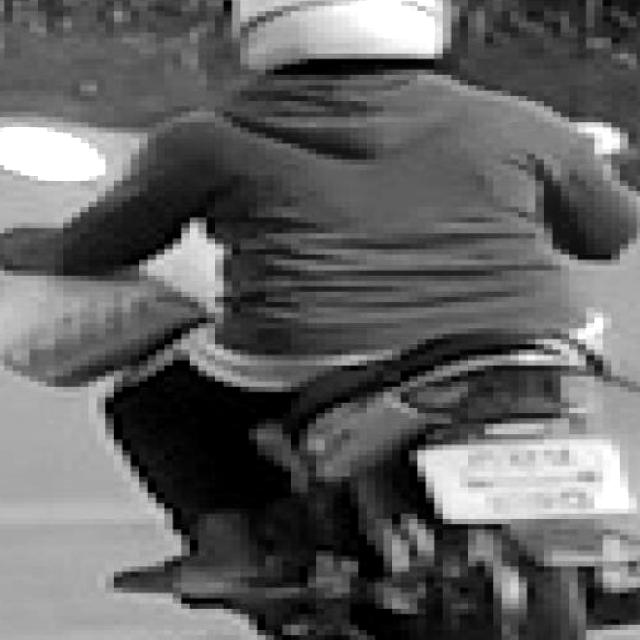letters: (484, 492, 520, 517), (472, 444, 502, 470), (534, 490, 556, 516), (567, 491, 594, 511), (546, 443, 567, 466), (516, 449, 537, 463)
license-plate: (414, 437, 634, 523)
province: (461, 468, 601, 487)
